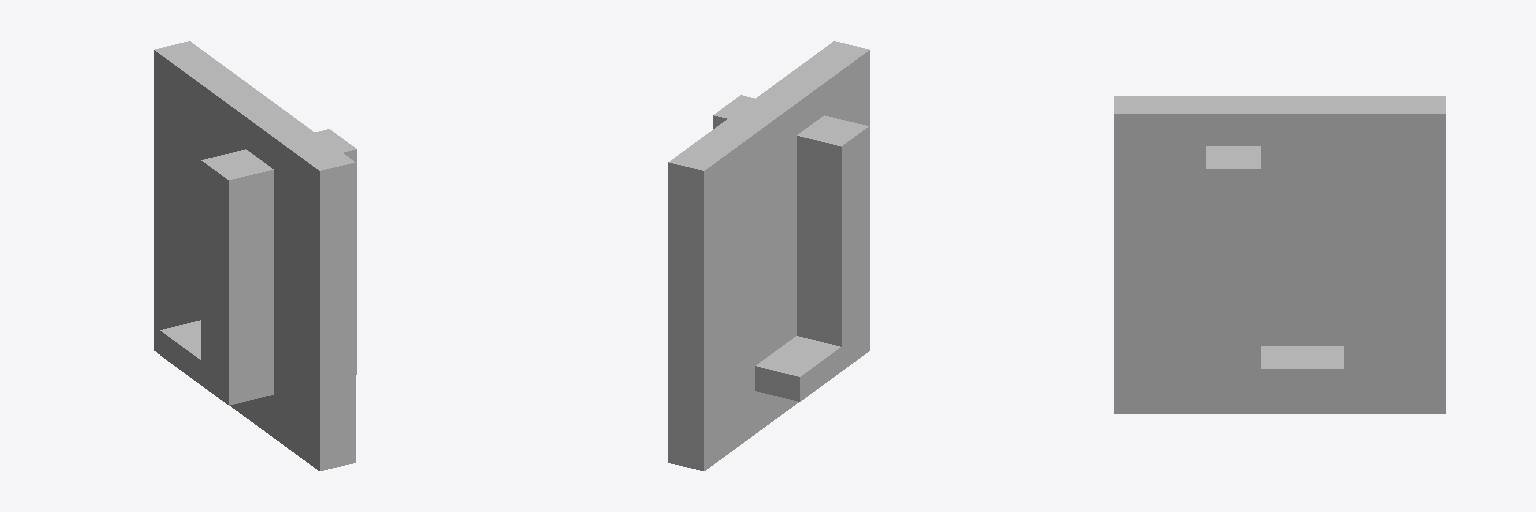
Rendered from letter_L.obj.
The picture shows the model from 3 angles: view 1: azimuth 30°, elevation 25°; view 2: azimuth 150°, elevation 25°; view 3: azimuth 270°, elevation 25°; orthographic projection.
Visible parts, largest first — view 1: window, Text; view 2: window, Text; view 3: window, Text.
Part boxes in pixels (x1,y1,x2,y2): window: (154,41,355,470); Text: (160,129,356,405); window: (668,41,869,470); Text: (713,95,868,401); window: (1114,96,1445,413); Text: (1206,146,1343,393).
Size of the model in its own units: 0.894 by 2 by 2.